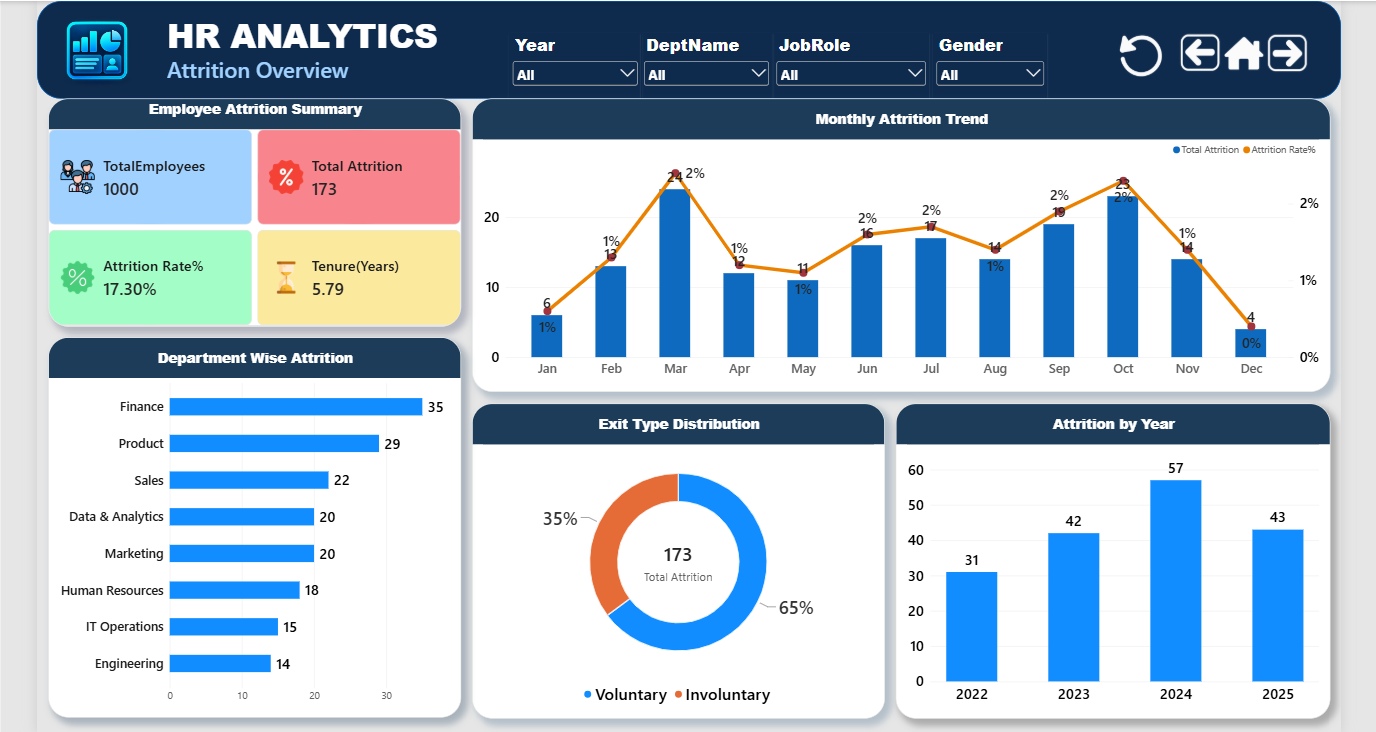

The dashboard page shown, as its layout file describes it:
{"tool":"powerbi","page":{"name":"Attrition Overview","canvas":[1920,1080],"ordinal":3},"visuals":[{"type":"shape","box":[0,0,1920,144],"z":0},{"type":"image","box":[1744,48,64,56.9],"z":0,"group":"g2"},{"type":"textbox","box":[192,16,696,96],"z":1000},{"type":"image","box":[1808,48,64,56.9],"z":1000,"group":"g2"},{"type":"slicer","fields":{"Values":["Employees.JobRole"]},"box":[1084.2,48,229.4,96],"z":2000,"group":"g4"},{"type":"image","box":[1680,48,64,56.9],"z":2000,"group":"g2"},{"type":"textbox","box":[192,80,512,48],"z":2000},{"type":"slicer","fields":{"Values":["Calender.Year"]},"box":[696,48,194.1,96],"z":2012,"group":"g1"},{"type":"slicer","fields":{"Values":["Employees.Gender"]},"box":[1320,48,168,96],"z":2012,"group":"g3"},{"type":"image","box":[16,16,144,112],"z":3000},{"type":"slicer","fields":{"Values":["Departments.DeptName"]},"box":[890.1,48,194.1,96],"z":3000,"group":"g4"},{"type":"group","id":"g1","title":"Group 2","box":[696,48,194.1,96],"z":4000,"group":"g4"},{"type":"group","id":"g2","title":"Group 1","box":[1680,48,192,48],"z":4000},{"type":"group","id":"g3","title":"Group 2","box":[1320,48,168,96],"z":5000},{"type":"donutChart","title":"Exit Type Distribution","fields":{"Category":["Attrition.ExitType"],"Y":["All_Measures.Total Attrition"]},"box":[640,592,608,464],"z":6000},{"type":"group","id":"g4","title":"Group 3","box":[696,48,600,96],"z":7000},{"type":"lineStackedColumnComboChart","title":"Monthly Attrition Trend ","fields":{"Category":["Calender.Month"],"Y":["All_Measures.Total Attrition"],"Y2":["All_Measures.Attrition Rate%"]},"box":[640,144,1264,432],"z":8000},{"type":"image","box":[1584,48,80,64],"z":9000},{"type":"cardVisual","title":"Employee Attrition Summary","fields":{"Data":["All_Measures.TotalEmployees","All_Measures.Total Attrition","All_Measures.Attrition Rate%","All_Measures.Average Tenure"]},"box":[16,144,608,336],"z":10000},{"type":"barChart","title":"Department Wise Attrition ","fields":{"Category":["Departments.DeptName"],"Y":["All_Measures.Total Attrition"]},"box":[16,496,608,560],"z":11000},{"type":"columnChart","title":"Attrition by Year","fields":{"Category":["Calender.Year"],"Y":["All_Measures.Total Attrition"]},"box":[1264,592,640,464],"z":12000}]}

Visuals, with their boxes on the page's 1920x1080 design canvas (x1, y1, x2, y2). These are canvas units, not pixel positions in the 1376x732 screenshot, which may show the page scaled, cropped or inside an application window:
shape: [left=0, top=0, right=1920, bottom=144]
image: [left=1744, top=48, right=1808, bottom=105]
textbox: [left=192, top=16, right=888, bottom=112]
image: [left=1808, top=48, right=1872, bottom=105]
slicer - Employees.JobRole: [left=1084, top=48, right=1314, bottom=144]
image: [left=1680, top=48, right=1744, bottom=105]
textbox: [left=192, top=80, right=704, bottom=128]
slicer - Calender.Year: [left=696, top=48, right=890, bottom=144]
slicer - Employees.Gender: [left=1320, top=48, right=1488, bottom=144]
image: [left=16, top=16, right=160, bottom=128]
slicer - Departments.DeptName: [left=890, top=48, right=1084, bottom=144]
"Group 2" group: [left=696, top=48, right=890, bottom=144]
"Group 1" group: [left=1680, top=48, right=1872, bottom=96]
"Group 2" group: [left=1320, top=48, right=1488, bottom=144]
"Exit Type Distribution" donutChart: [left=640, top=592, right=1248, bottom=1056]
"Group 3" group: [left=696, top=48, right=1296, bottom=144]
"Monthly Attrition Trend " lineStackedColumnComboChart: [left=640, top=144, right=1904, bottom=576]
image: [left=1584, top=48, right=1664, bottom=112]
"Employee Attrition Summary" cardVisual: [left=16, top=144, right=624, bottom=480]
"Department Wise Attrition " barChart: [left=16, top=496, right=624, bottom=1056]
"Attrition by Year" columnChart: [left=1264, top=592, right=1904, bottom=1056]
